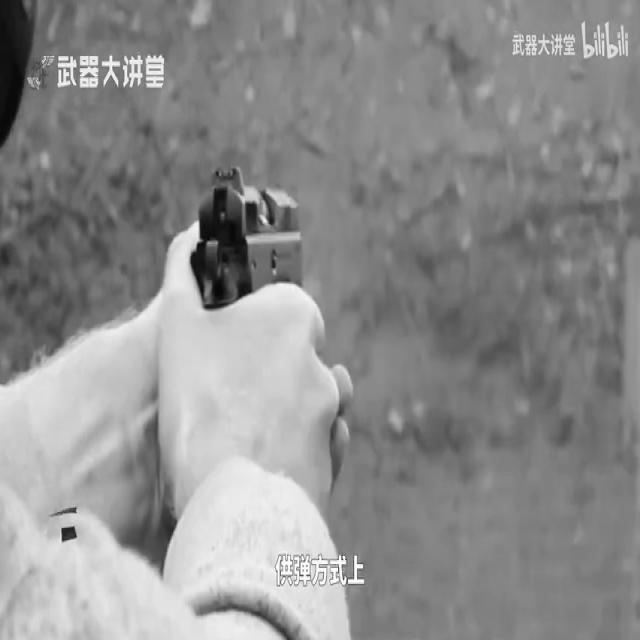Hand-Gun: (183, 154, 320, 315)
